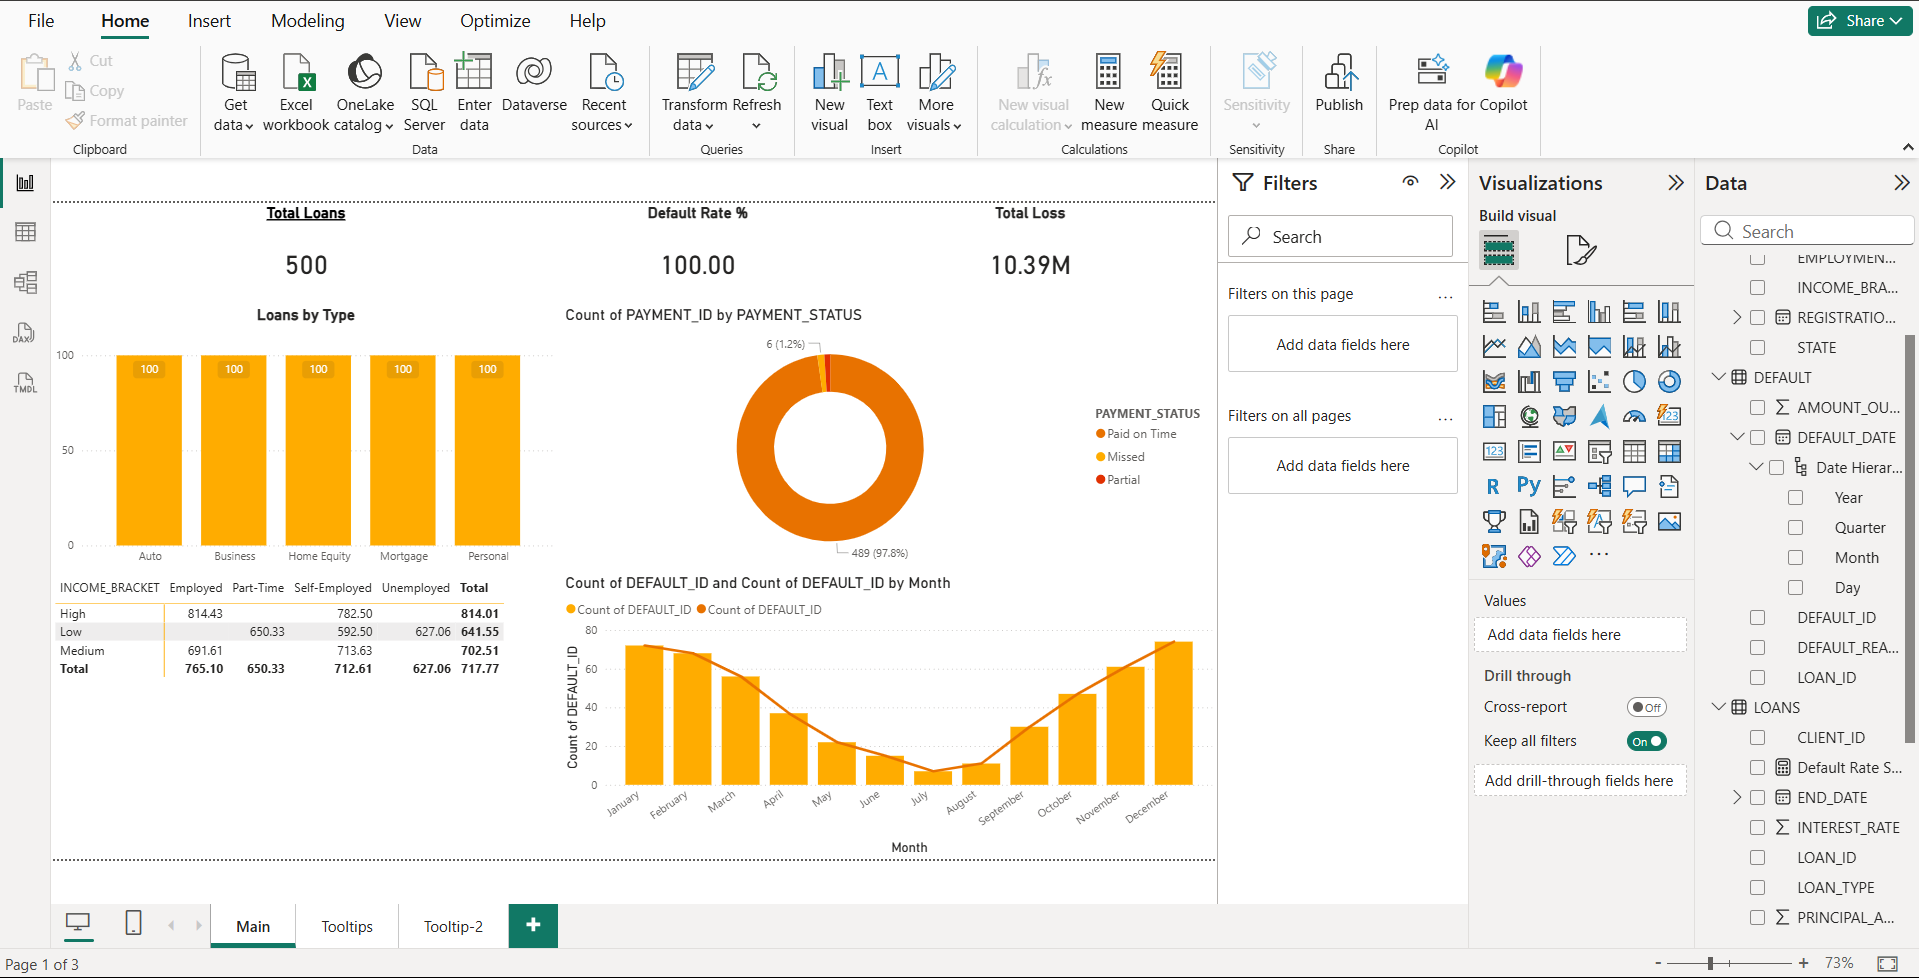

The page's visual inventory and layout, read from the dashboard file:
{"tool":"powerbi","page":{"name":"Main","canvas":[1280,720],"ordinal":0},"visuals":[{"type":"card","title":"Total Loans","fields":{"Values":["CountNonNull(LOANS.LOAN_ID)"]},"box":[0,0,279.9,112.5],"z":0},{"type":"card","title":"Default Rate %","fields":{"Values":["LOANS.Default Rate Simple"]},"box":[279.9,0,279.9,112.5],"z":1000},{"type":"card","title":"Total Loss","fields":{"Values":["Sum(DEFAULT.AMOUNT_OUTSTANDING)"]},"box":[920.8,0,359.5,112.5],"z":2000},{"type":"clusteredColumnChart","title":"Loans by Type","fields":{"Category":["LOANS.LOAN_TYPE"],"Y":["CountNonNull(LOANS.LOAN_ID)"]},"box":[0,112.5,559.9,293.7],"z":3000},{"type":"pivotTable","fields":{"Rows":["CLIENTS.INCOME_BRACKET"],"Columns":["CLIENTS.EMPLOYMENT_STATUS"],"Values":["Avg(CLIENTS.CLIENT_SCORE)"]},"box":[0,406.2,559.9,314.2],"z":4000},{"type":"donutChart","fields":{"Category":["PAYMENTS.PAYMENT_STATUS"],"Y":["Count(PAYMENTS.PAYMENT_ID)"]},"box":[559.9,112.5,720.4,293.7],"z":5000},{"type":"lineStackedColumnComboChart","fields":{"Category":["DEFAULT.DEFAULT_DATE.Variation.Date Hierarchy.Month"],"Y":["CountNonNull(DEFAULT.DEFAULT_ID)"],"Y2":["CountNonNull(DEFAULT.DEFAULT_ID)"]},"box":[559.9,406.2,720.4,314.2],"z":6000},{"type":"card","title":"Avg Interest Rate","fields":{"Values":["Avg(LOANS.INTEREST_RATE)"]},"box":[559.9,0,360.9,112.5],"z":6001}]}

Visuals, with their boxes on the page's 1280x720 design canvas (x1, y1, x2, y2). These are canvas units, not pixel positions in the 1919x978 screenshot, which may show the page scaled, cropped or inside an application window:
"Total Loans" card: bbox=[0, 0, 280, 112]
"Default Rate %" card: bbox=[280, 0, 560, 112]
"Total Loss" card: bbox=[921, 0, 1280, 112]
"Loans by Type" clusteredColumnChart: bbox=[0, 112, 560, 406]
pivotTable - CLIENTS.INCOME_BRACKET x CLIENTS.EMPLOYMENT_STATUS: bbox=[0, 406, 560, 720]
donutChart - PAYMENTS.PAYMENT_STATUS x Count(PAYMENTS.PAYMENT_ID): bbox=[560, 112, 1280, 406]
lineStackedColumnComboChart - DEFAULT.DEFAULT_DATE.Variation.Date Hierarchy.Month x CountNonNull(DEFAULT.DEFAULT_ID): bbox=[560, 406, 1280, 720]
"Avg Interest Rate" card: bbox=[560, 0, 921, 112]
